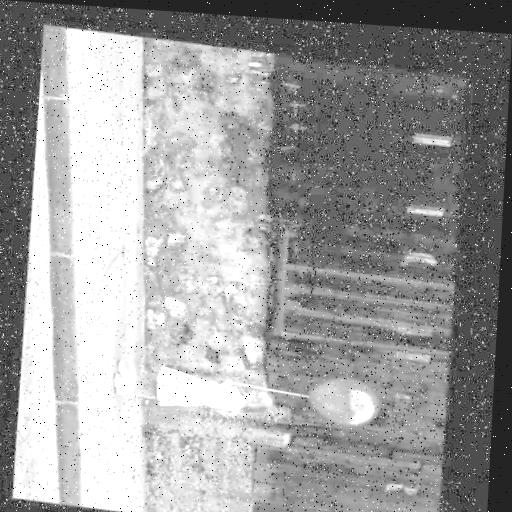balloon: (307, 369, 383, 425)
